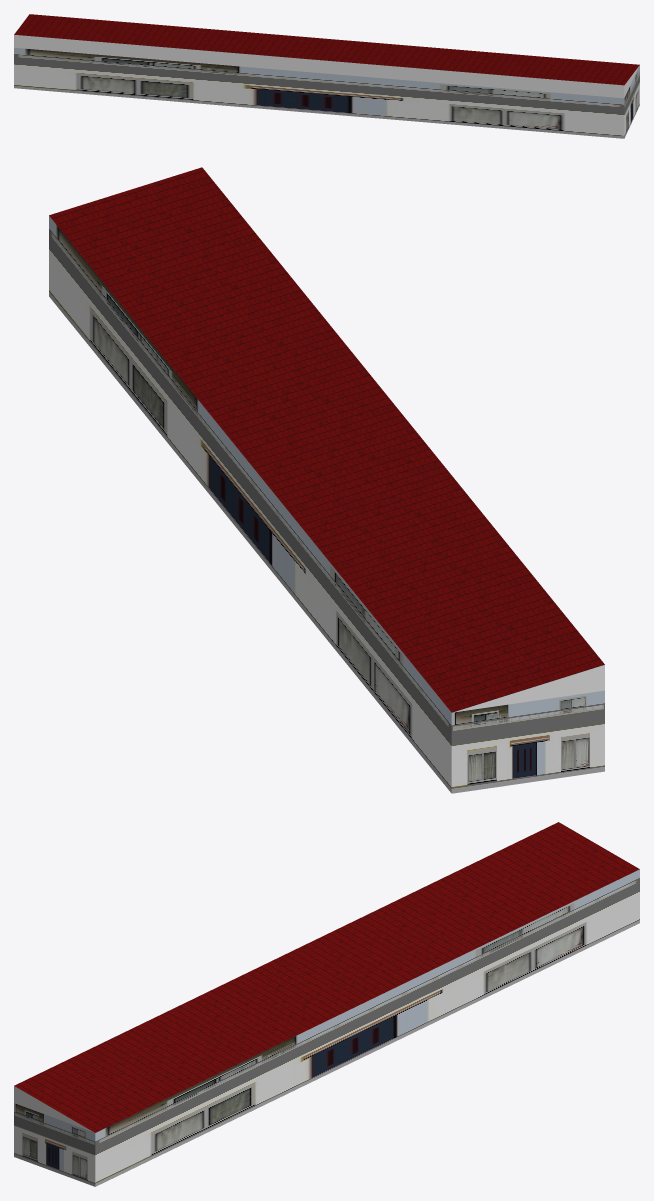
3 views of the same model, one above another, from view 1: azimuth 30°, elevation 25°; view 2: azimuth 150°, elevation 25°; view 3: azimuth 270°, elevation 25° (orthographic). The views are drawn at different scales.
Parts seen in each view (by area): view 1: CityEngineMaterial_7_m, CityEngineMaterial_17_m, CityEngineMaterial_3_m; view 2: CityEngineMaterial_17_m, CityEngineMaterial_7_m, CityEngineMaterial_3_m; view 3: CityEngineMaterial_17_m, CityEngineMaterial_7_m, CityEngineMaterial_3_m.
Part boxes in pixels (x1,y1,x2,y2): CityEngineMaterial_7_m: (14,47,639,138); CityEngineMaterial_17_m: (14,14,639,85); CityEngineMaterial_3_m: (14,35,639,98); CityEngineMaterial_17_m: (49,167,604,712); CityEngineMaterial_7_m: (49,216,604,793); CityEngineMaterial_3_m: (453,665,604,712); CityEngineMaterial_17_m: (14,822,639,1132); CityEngineMaterial_7_m: (14,869,639,1186); CityEngineMaterial_3_m: (14,1086,94,1132).
Bounding box in the file's own units: 73.52 × 8.3 × 66.2.
